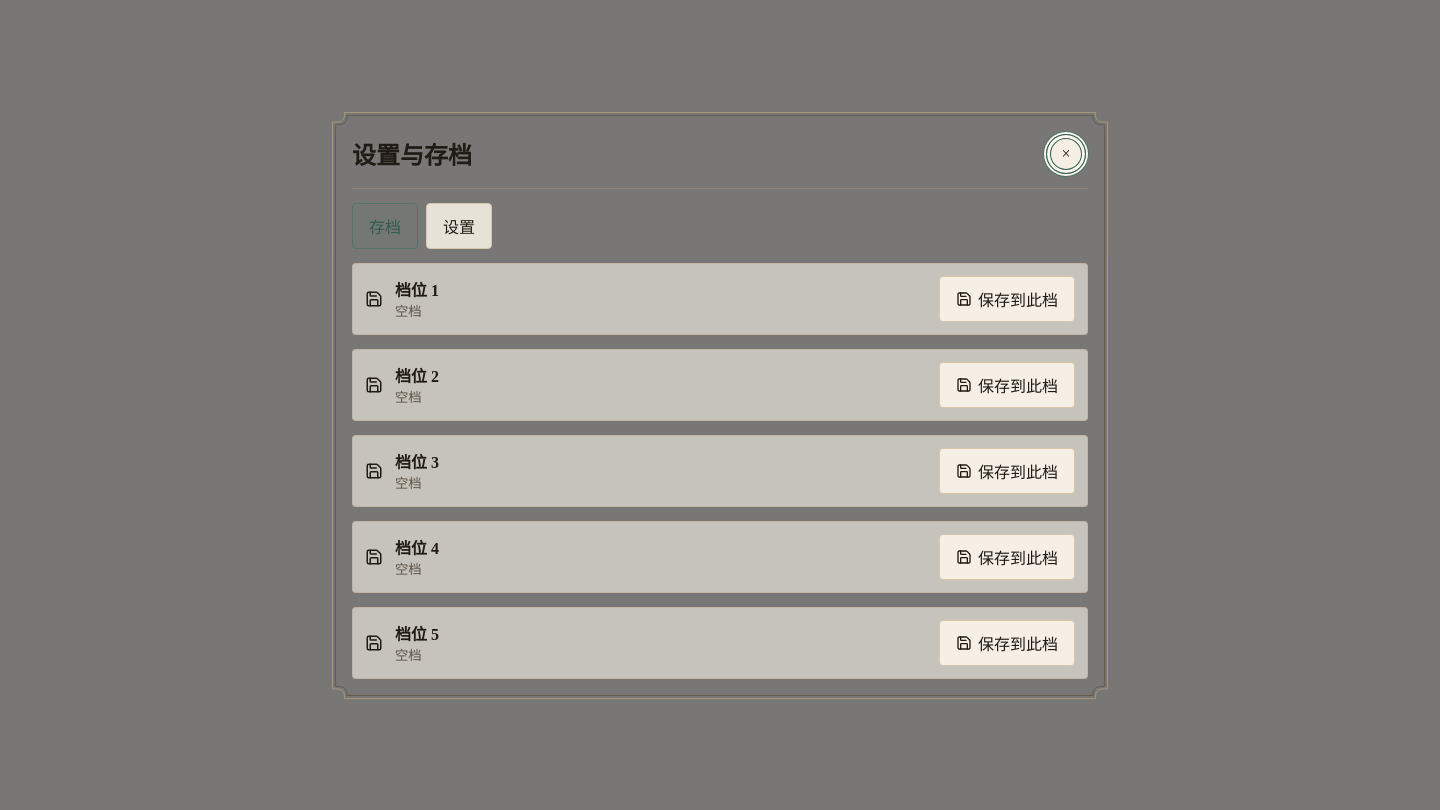
it: refreshes a stale session and reports a recoverable save conflict
Step 1. Click the button "保存到此档" in the row of "档位 1" → click(1007, 298), box 939,276 -> 1075,322
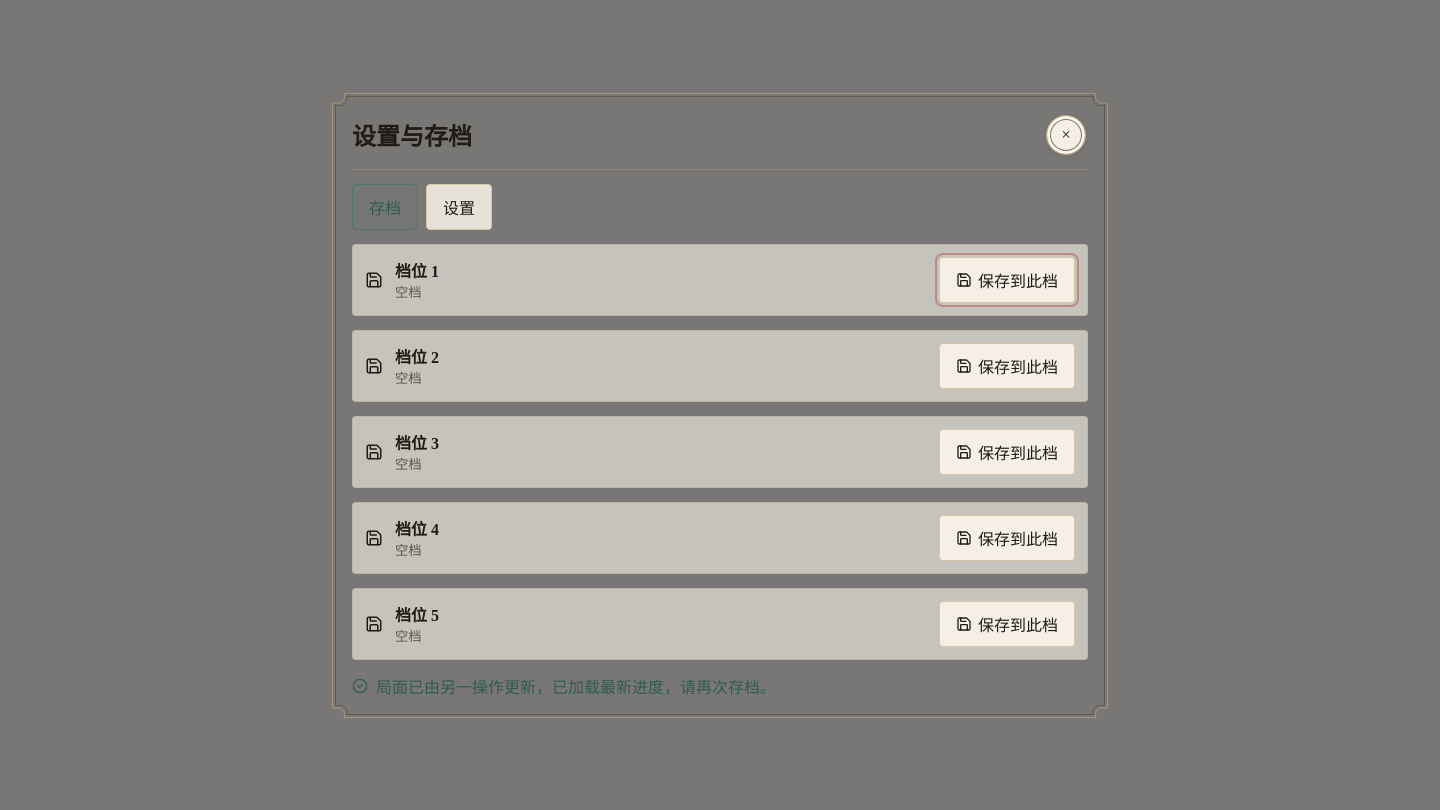
Result: the message shows "已加载最新进度，请再次存档" at 376,678 -> 776,696
